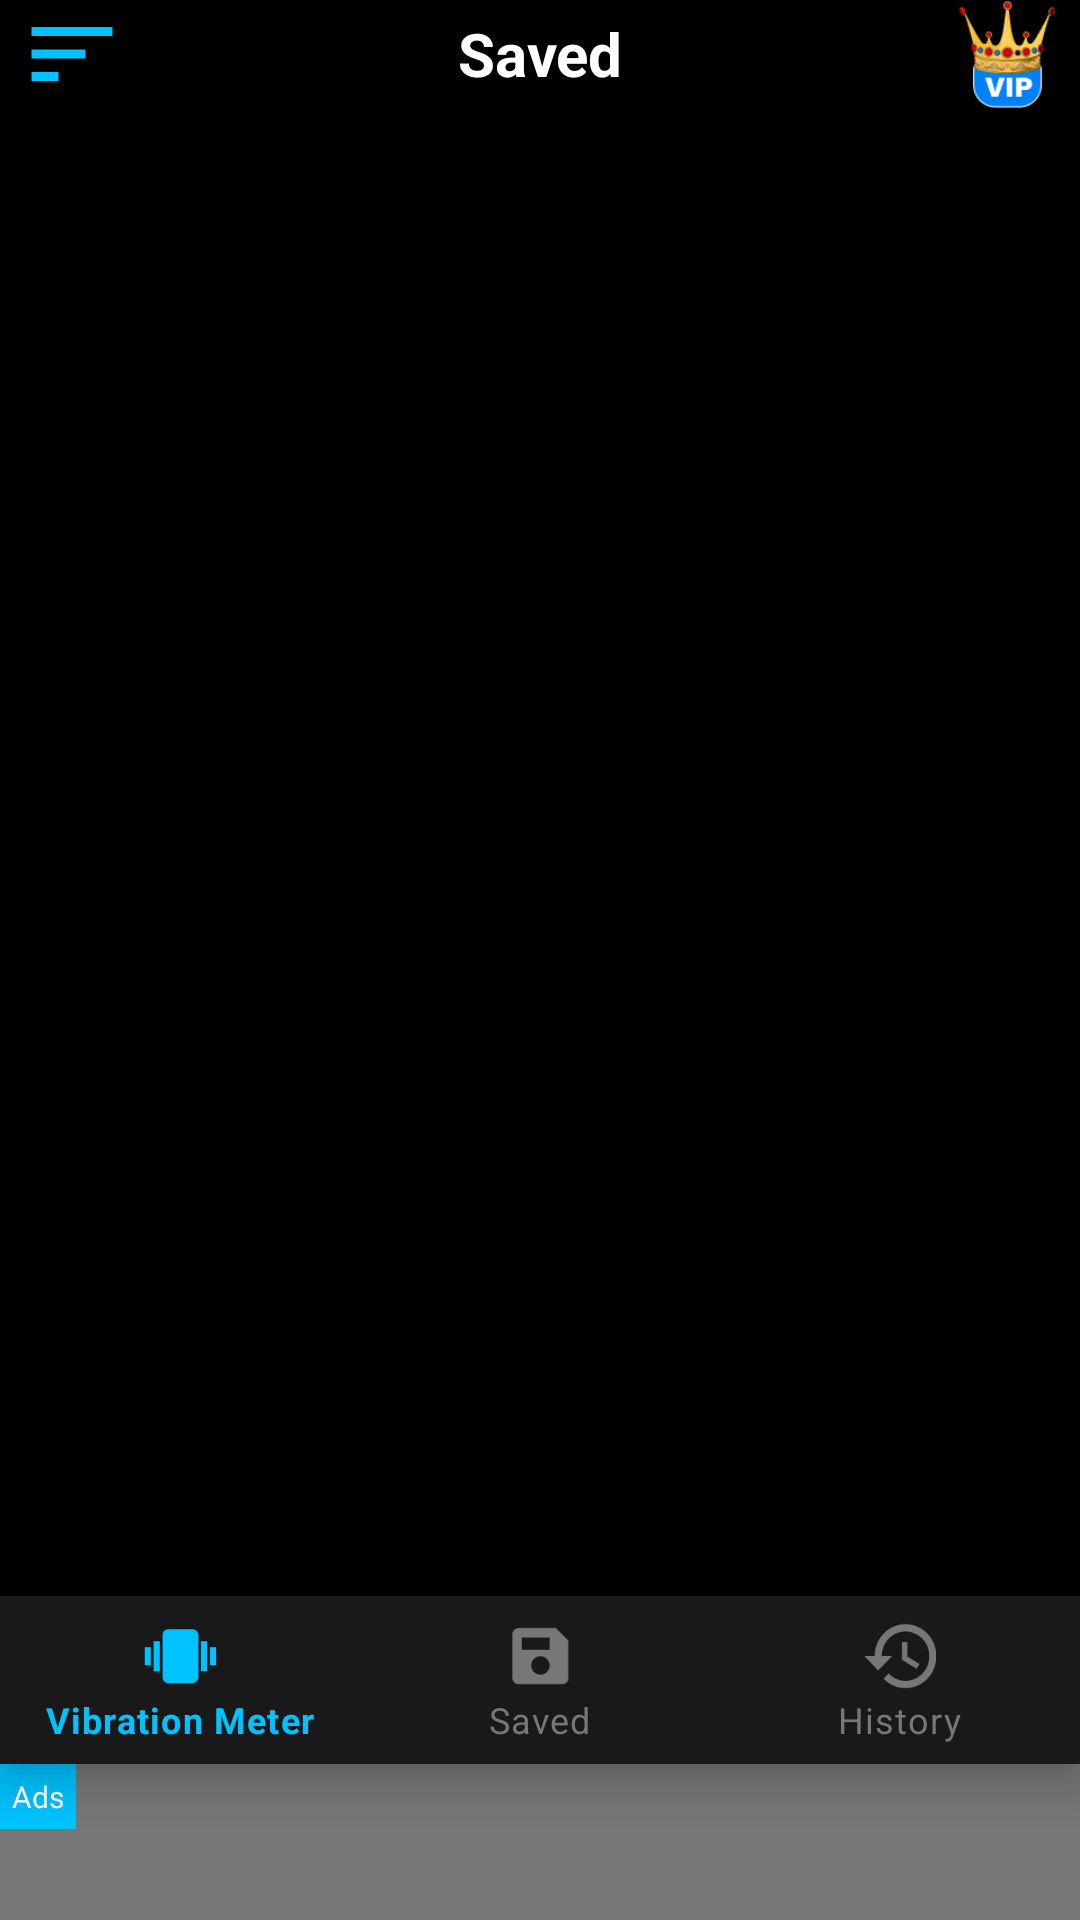

Icons on this 1080px×1920px Android screen, each with the point to tap as (x,y):
sort menue: (72,54)
